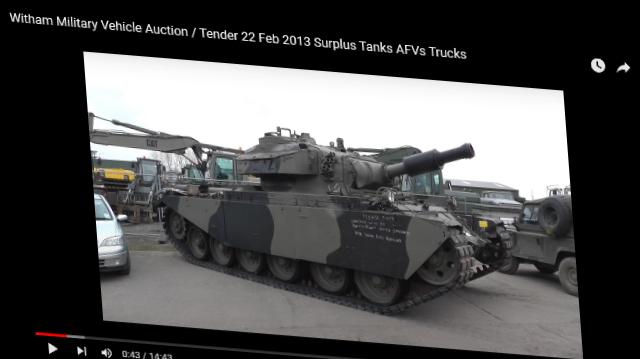tank: (166, 134, 436, 278)
